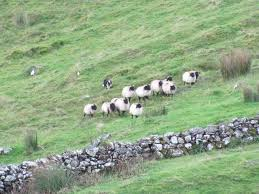sheep: (112, 96, 130, 118), (181, 71, 203, 88), (99, 100, 118, 119), (137, 83, 153, 102), (129, 102, 145, 121), (162, 83, 181, 98), (150, 79, 165, 96), (120, 84, 138, 98), (85, 103, 101, 117), (162, 76, 175, 87)
